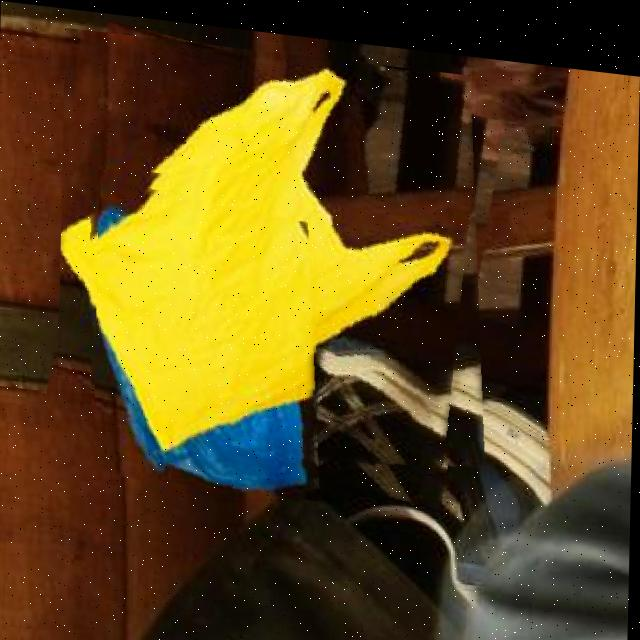litter: (57, 25, 493, 489), (94, 171, 328, 492)
